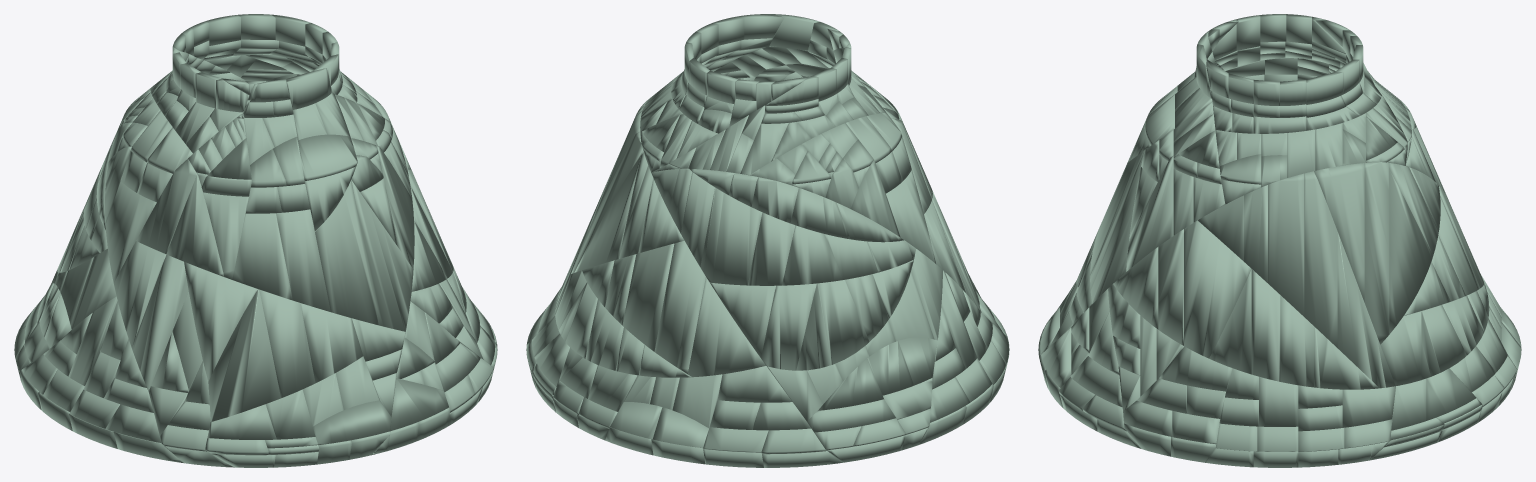
The model's file is collision-hulls.glb.
3 renders of one model, left to right at view 1: azimuth 30°, elevation 25°; view 2: azimuth 150°, elevation 25°; view 3: azimuth 270°, elevation 25°, orthographic.
Parts seen in each view (by area): view 1: fragment-016-hull-02, fragment-020-hull-01, fragment-020-hull-00, fragment-016-hull-03, fragment-005-hull-07, fragment-016-hull-01, fragment-023-hull-10, fragment-023-hull-09, fragment-016-hull-00, fragment-005-hull-08, fragment-022-hull-19, fragment-014-hull-04 (+87 smaller); view 2: fragment-008-hull-04, fragment-028-hull-02, fragment-018-hull-03, fragment-018-hull-04, fragment-018-hull-02, fragment-008-hull-01, fragment-028-hull-06, fragment-008-hull-00, fragment-003-hull-02, fragment-028-hull-05, fragment-014-hull-04, fragment-009-hull-07 (+93 smaller); view 3: fragment-026-hull-02, fragment-007-hull-03, fragment-007-hull-02, fragment-003-hull-01, fragment-003-hull-02, fragment-007-hull-04, fragment-003-hull-00, fragment-027-hull-01, fragment-021-hull-00, fragment-026-hull-01, fragment-027-hull-02, fragment-020-hull-00 (+95 smaller).
Boxes of the visible parts, x1,y1,x2,y2 form: fragment-016-hull-02: [208, 289, 280, 421]; fragment-020-hull-01: [315, 180, 378, 325]; fragment-020-hull-00: [351, 180, 413, 331]; fragment-016-hull-03: [184, 262, 257, 381]; fragment-005-hull-07: [132, 254, 188, 391]; fragment-016-hull-01: [259, 289, 315, 398]; fragment-023-hull-10: [232, 213, 292, 300]; fragment-023-hull-09: [276, 209, 330, 311]; fragment-016-hull-00: [300, 303, 363, 382]; fragment-005-hull-08: [114, 241, 166, 347]; fragment-022-hull-19: [166, 175, 224, 276]; fragment-014-hull-04: [105, 181, 156, 283]; fragment-008-hull-04: [796, 280, 869, 370]; fragment-028-hull-02: [700, 187, 762, 285]; fragment-018-hull-03: [654, 240, 705, 374]; fragment-018-hull-04: [688, 277, 765, 377]; fragment-018-hull-02: [622, 243, 674, 351]; fragment-008-hull-01: [761, 283, 816, 370]; fragment-028-hull-06: [782, 225, 843, 285]; fragment-008-hull-00: [710, 282, 775, 357]; fragment-003-hull-02: [574, 156, 640, 272]; fragment-028-hull-05: [747, 212, 795, 285]; fragment-014-hull-04: [886, 170, 935, 263]; fragment-009-hull-07: [717, 366, 792, 402]; fragment-026-hull-02: [1184, 220, 1251, 358]; fragment-007-hull-03: [1304, 171, 1337, 347]; fragment-007-hull-02: [1268, 173, 1304, 316]; fragment-003-hull-01: [1364, 162, 1389, 344]; fragment-003-hull-02: [1389, 169, 1432, 334]; fragment-007-hull-04: [1337, 232, 1395, 388]; fragment-003-hull-00: [1314, 163, 1364, 302]; fragment-027-hull-01: [1251, 269, 1280, 381]; fragment-021-hull-00: [1126, 155, 1173, 271]; fragment-026-hull-01: [1158, 229, 1183, 345]; fragment-027-hull-02: [1280, 295, 1314, 387]; fragment-020-hull-00: [1090, 152, 1144, 303].
Bounding box in the file's own units: 0.22 × 0.16 × 0.22.
